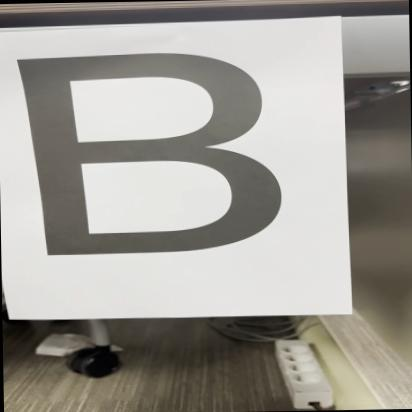seat: (5, 43, 302, 270)
